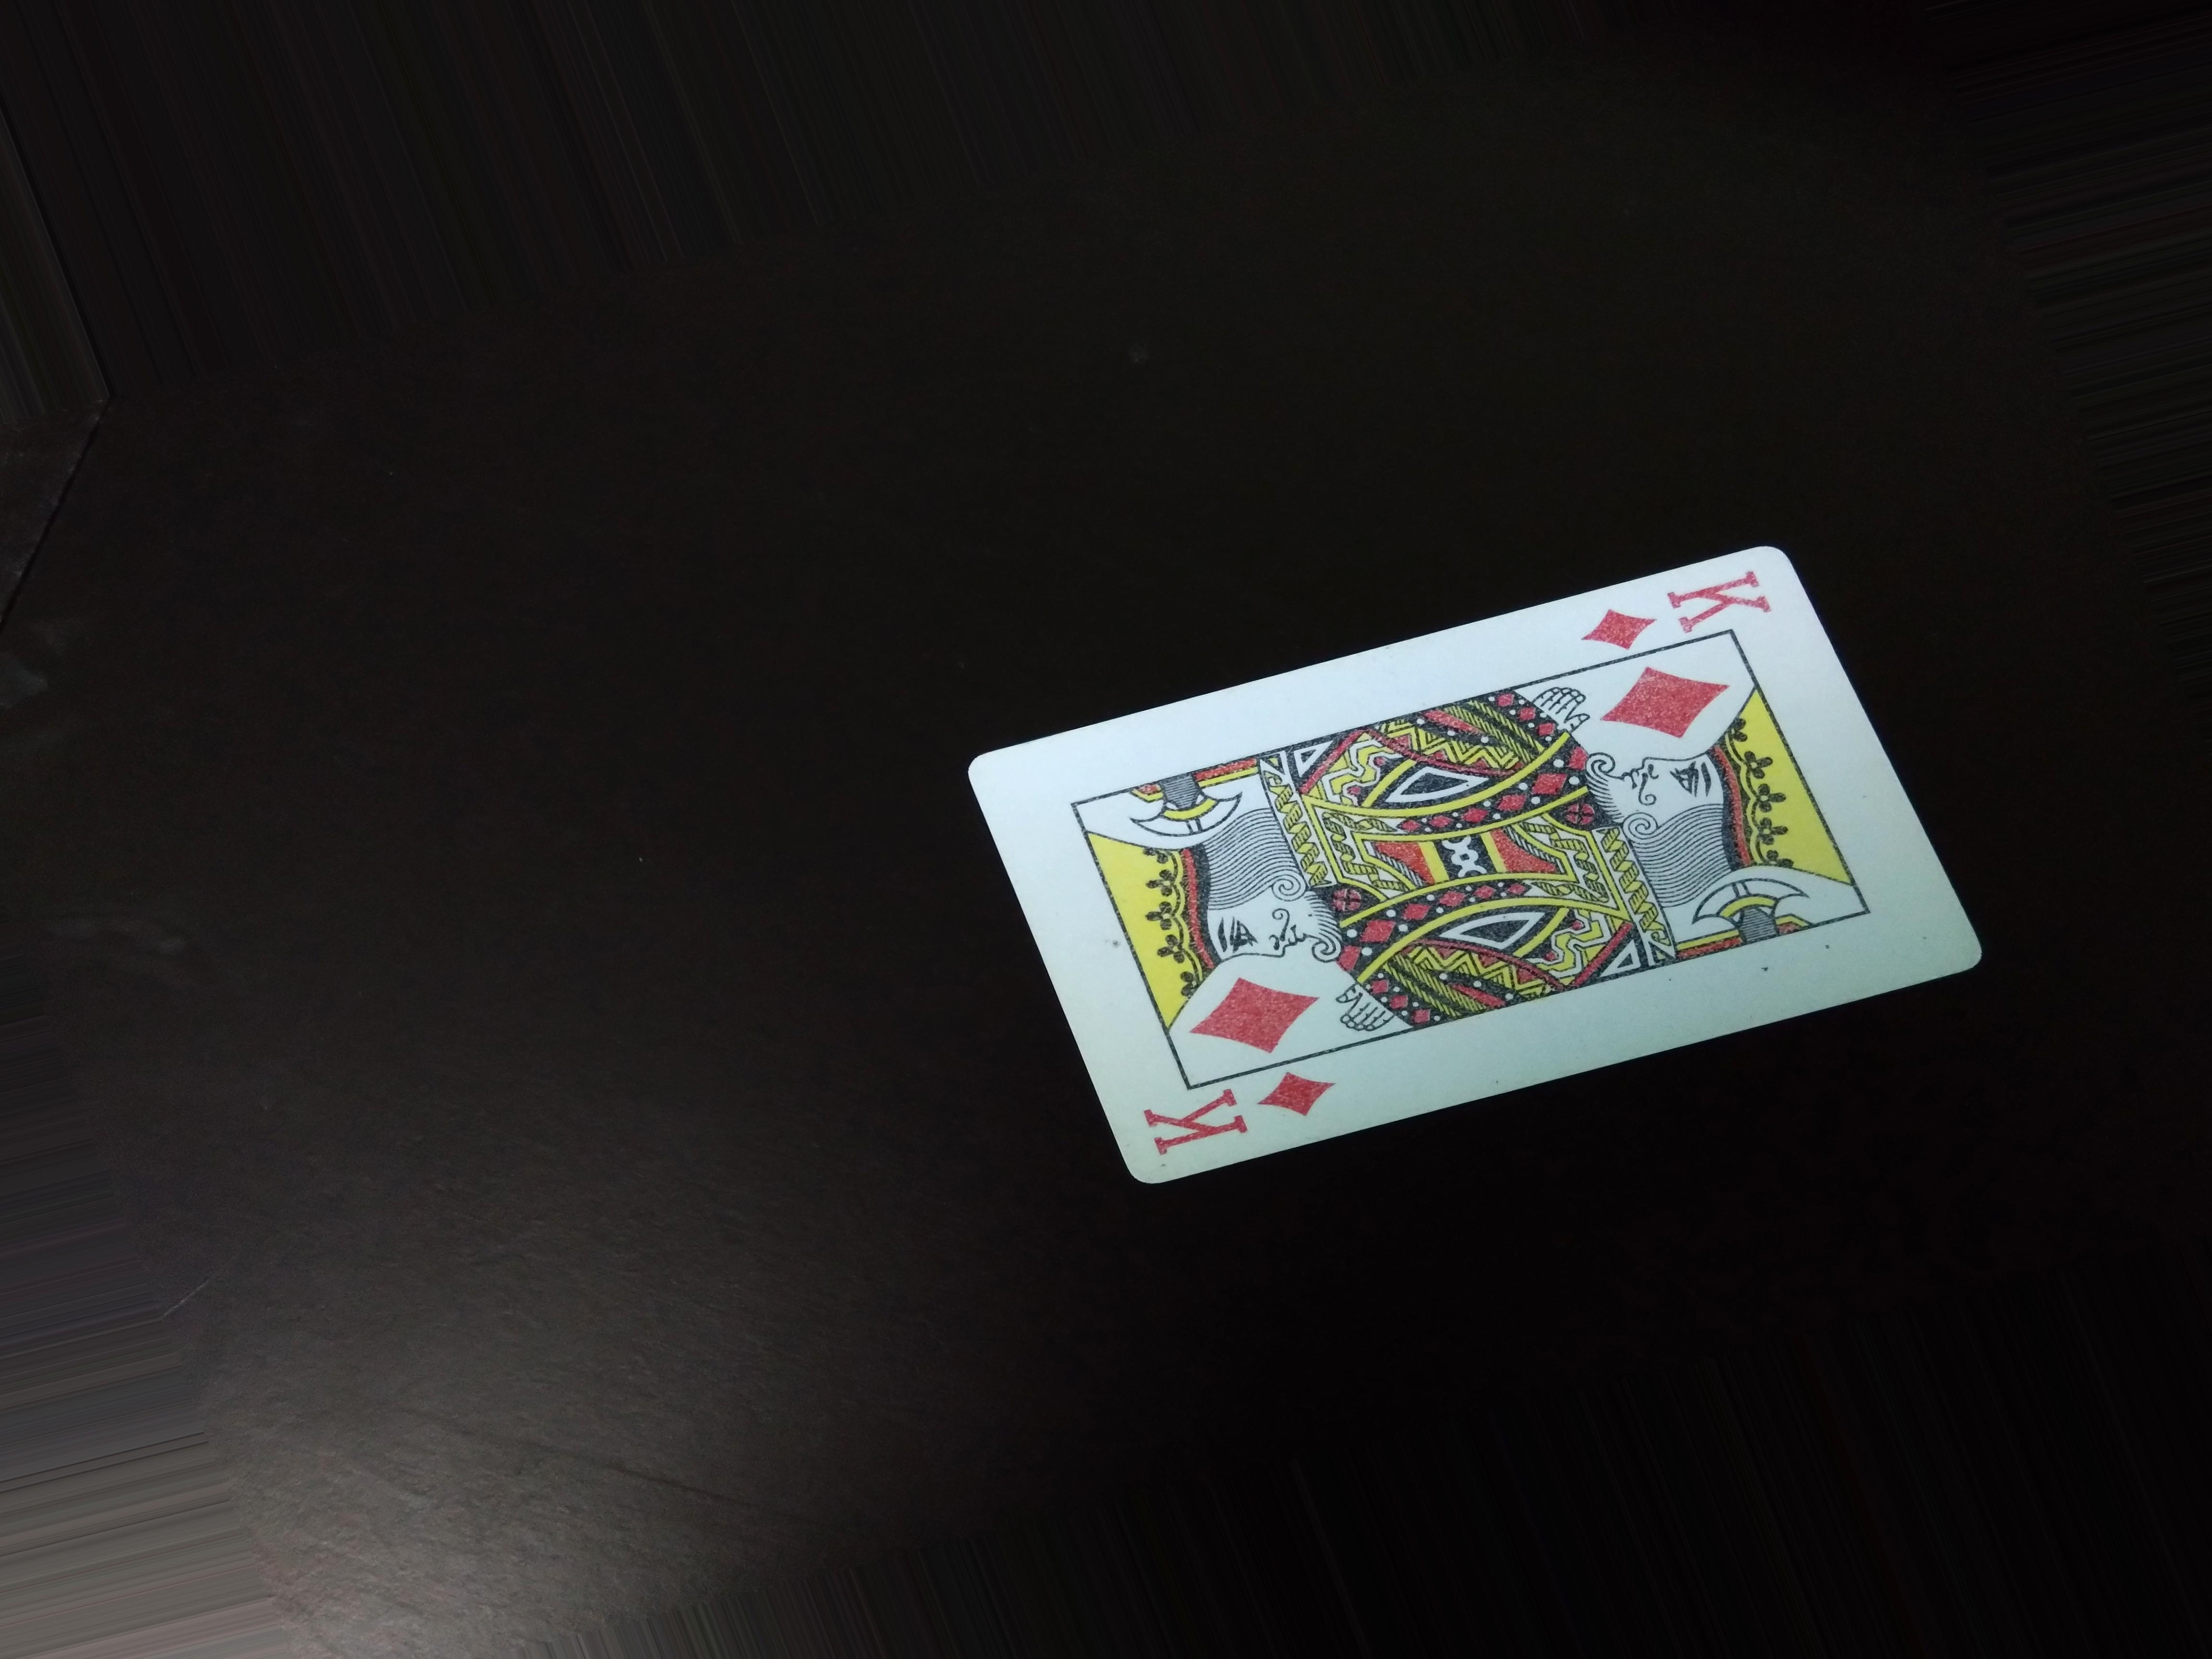KD: (1101, 1077, 1366, 1157)
